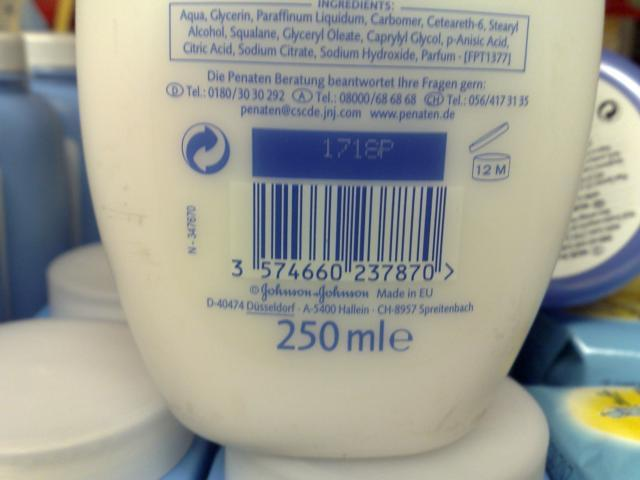Barcode: (229, 177, 466, 284)
